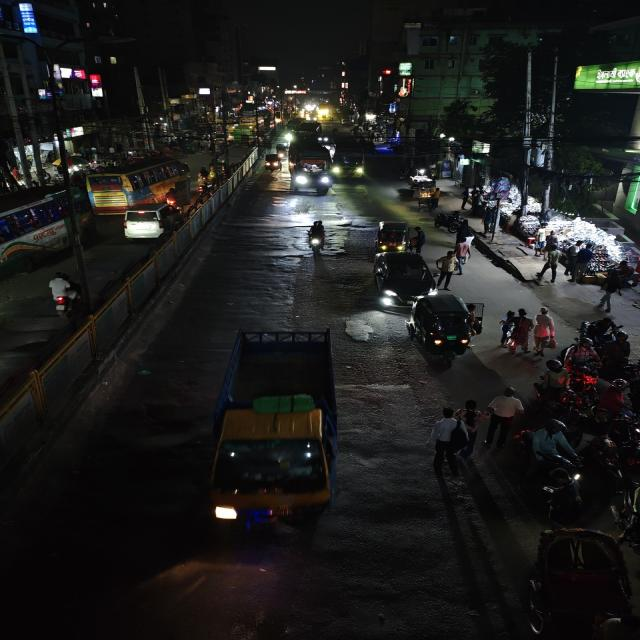bus: (0, 184, 86, 270), (86, 155, 193, 210), (287, 140, 332, 196), (327, 135, 368, 181)
car: (371, 250, 436, 306), (120, 200, 184, 243)
cng: (407, 290, 485, 362), (374, 220, 411, 252), (263, 152, 283, 174)
motorcycle: (531, 377, 585, 420), (558, 338, 601, 386), (41, 270, 82, 319), (602, 330, 640, 379), (299, 217, 331, 257)
pedestrian: (425, 405, 468, 469), (482, 387, 523, 449), (541, 466, 585, 523), (597, 264, 625, 311), (508, 306, 532, 356), (531, 306, 554, 356), (435, 250, 462, 288), (499, 308, 518, 350)
pickup_van: (208, 321, 345, 541)
rickshaw: (520, 522, 640, 637)
